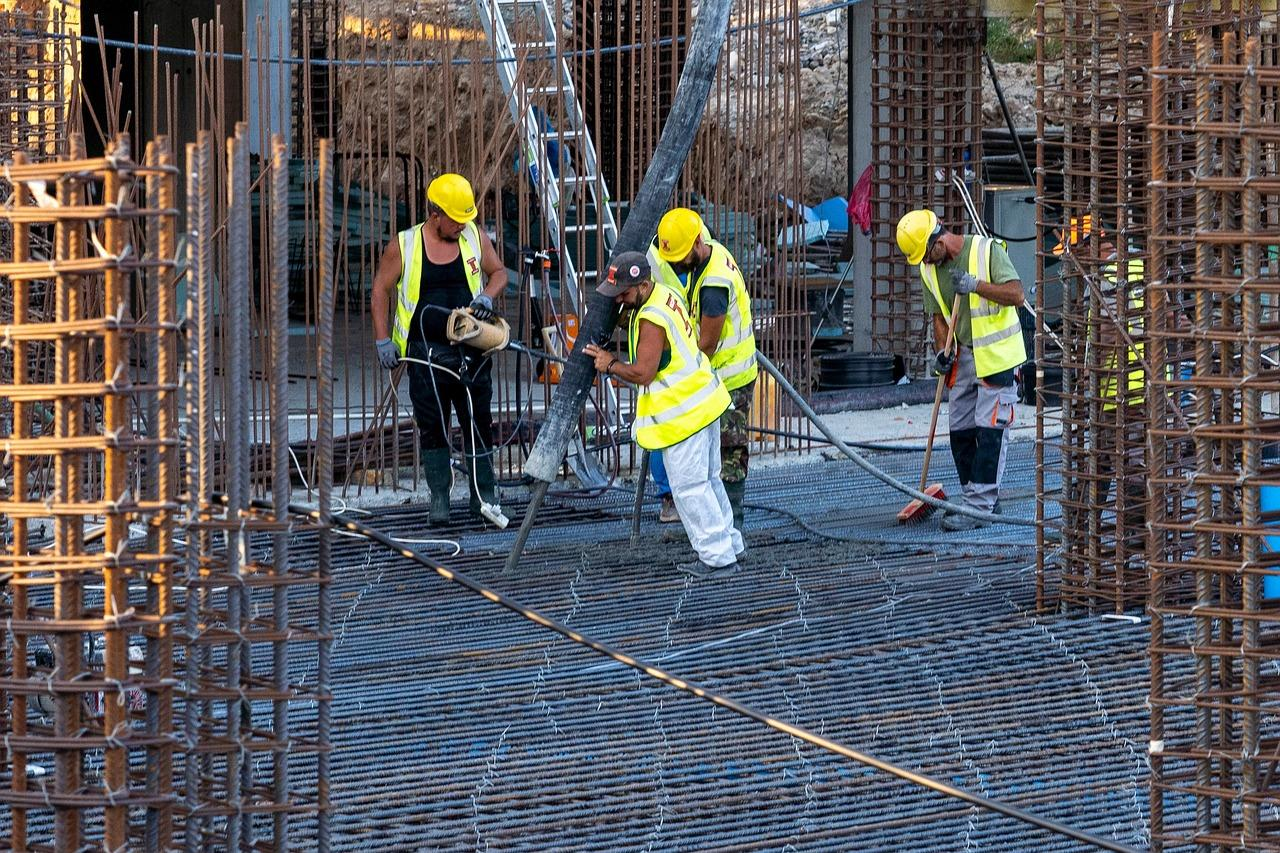capacete: (888, 206, 960, 269), (419, 172, 483, 229), (651, 209, 713, 265)
luva: (369, 334, 409, 369), (947, 267, 983, 303), (456, 291, 499, 321), (931, 346, 957, 375)
pessoa: (369, 165, 524, 549), (889, 193, 1020, 520), (599, 266, 733, 580), (670, 210, 764, 567)
